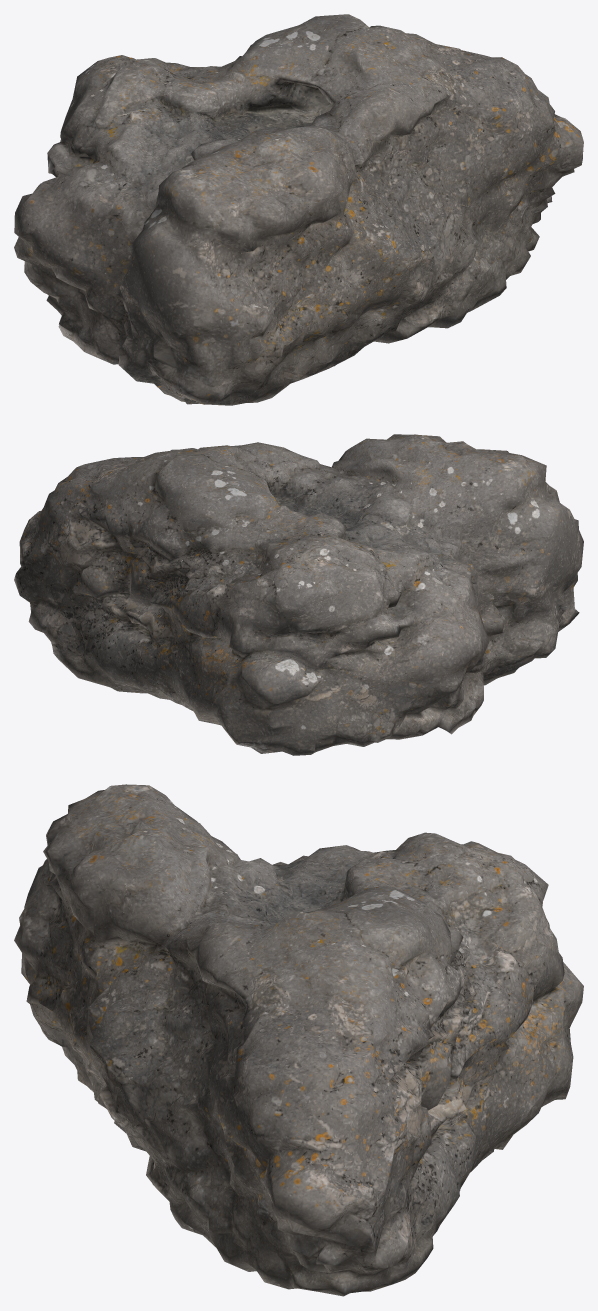
The model's file is SM_wfjvdfebw_tier_2.gltf.
The picture shows the model from 3 angles, top to bottom: view 1: azimuth 30°, elevation 25°; view 2: azimuth 150°, elevation 25°; view 3: azimuth 270°, elevation 25°; orthographic projection. The views are drawn at different scales.
Parts seen in each view (by area): view 1: SM_wfjvdfebw; view 2: SM_wfjvdfebw; view 3: SM_wfjvdfebw.
Boxes of the visible parts, box(x1,y1,x2,y2) form: SM_wfjvdfebw: box(14, 14, 583, 405); SM_wfjvdfebw: box(14, 434, 583, 755); SM_wfjvdfebw: box(14, 784, 583, 1296).
Size of the model in its own units: 1.92 by 0.9226 by 1.52.
Materials: 1 (1 with a texture image).
